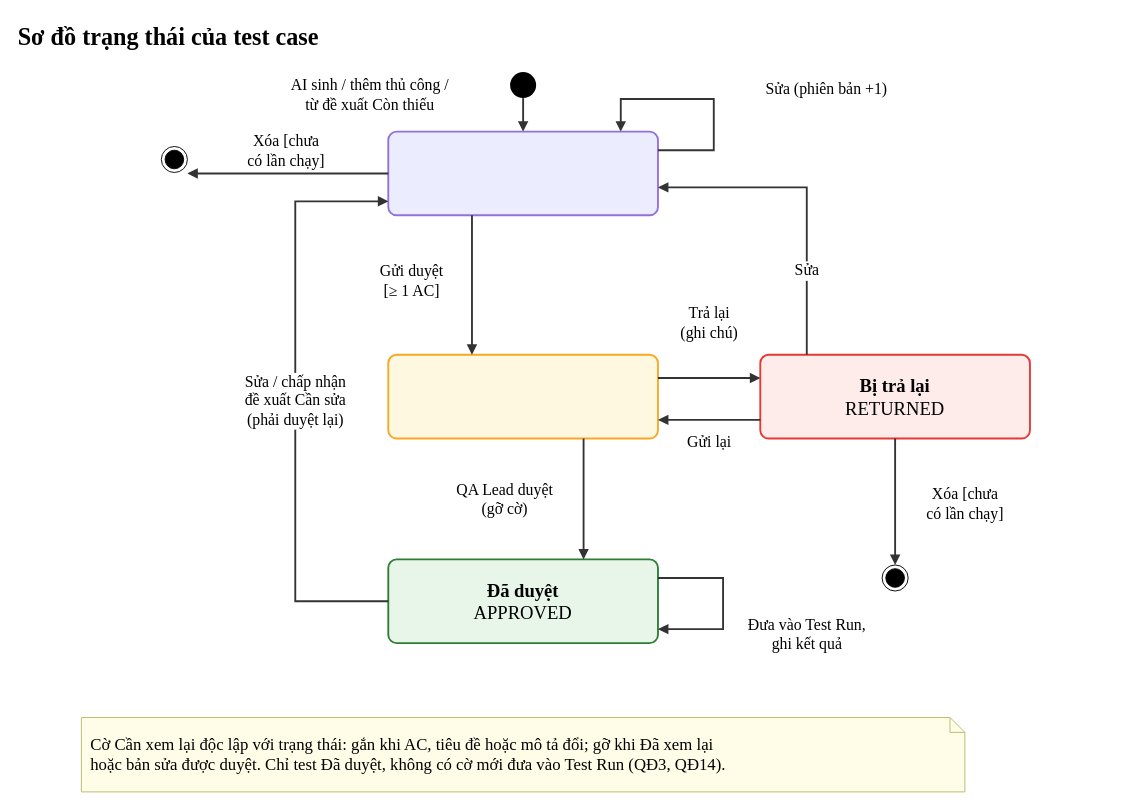
The diagram is 1148 pixels wide and 808 high, and some of its shapes have lost their labels. The shapes that lost their labels are listed below. From the top down, each one's centre as x and y in pixels, then its label:
At pixel 522 173: "Nháp DRAFT".
At pixel 522 396: "Chờ duyệt PENDING_REVIEW".
